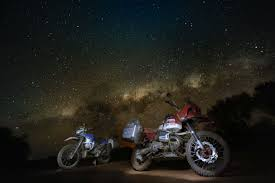motorcycle: (56, 97, 229, 176)
